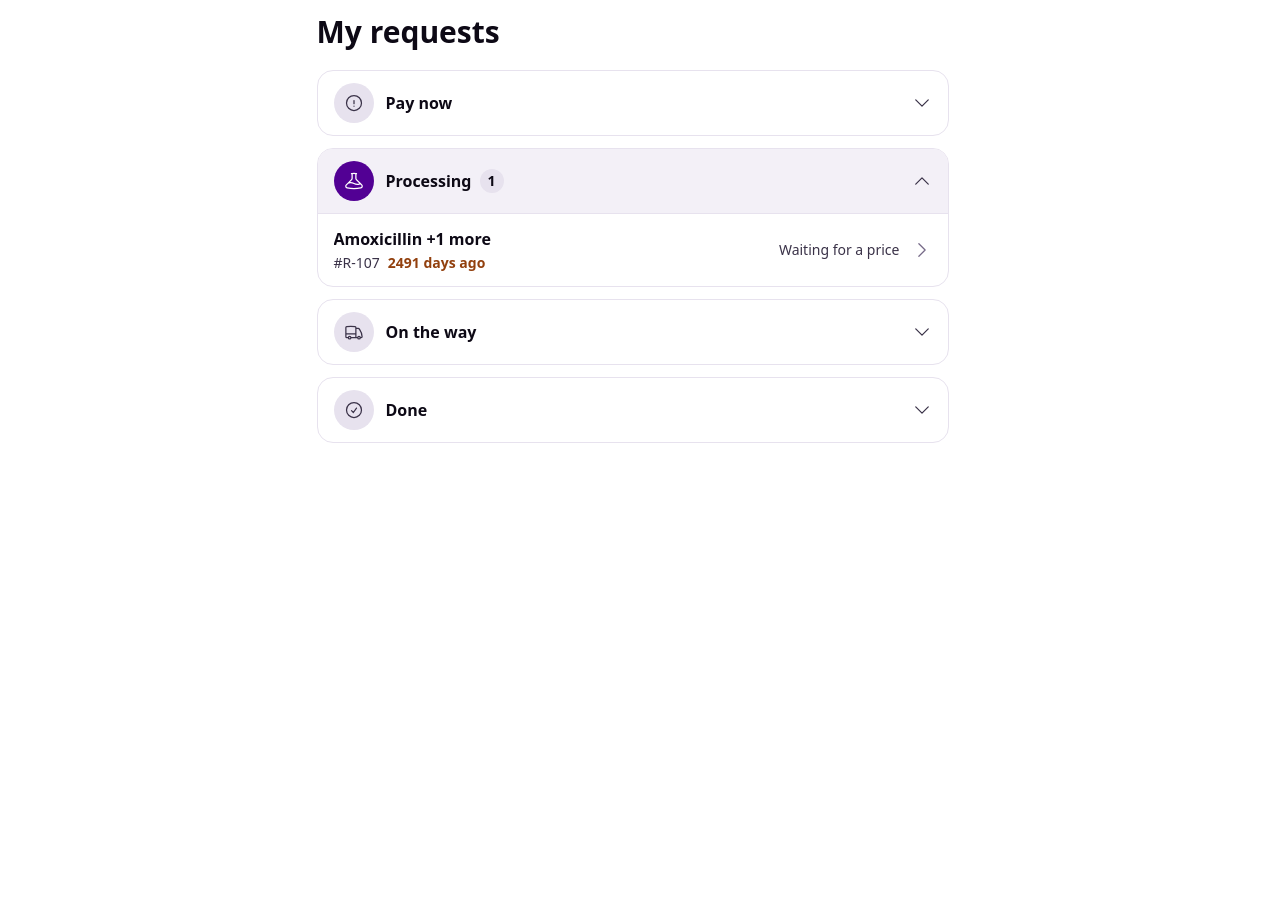
Test: Request detail: items › offers Edit items while the request can still change, and opens the editor
Click the button "Amoxicillin +1 more #R-107 2491 days ago Waiting for a price" at point(412, 239), box [322,218,944,282]
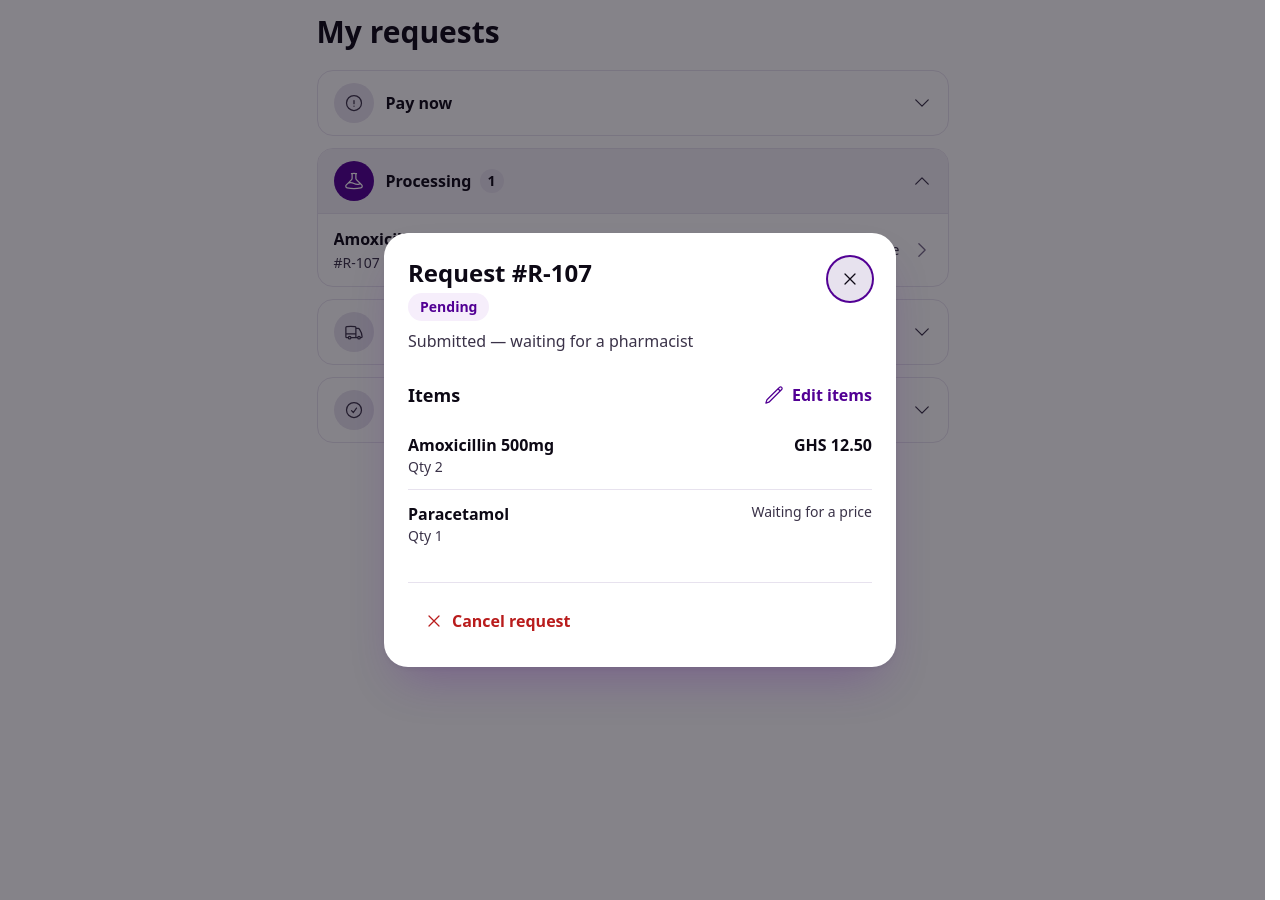
Expected: the button "Edit items" is shown
Click the button "Edit items" at point(812, 395), box [752,373,872,417]
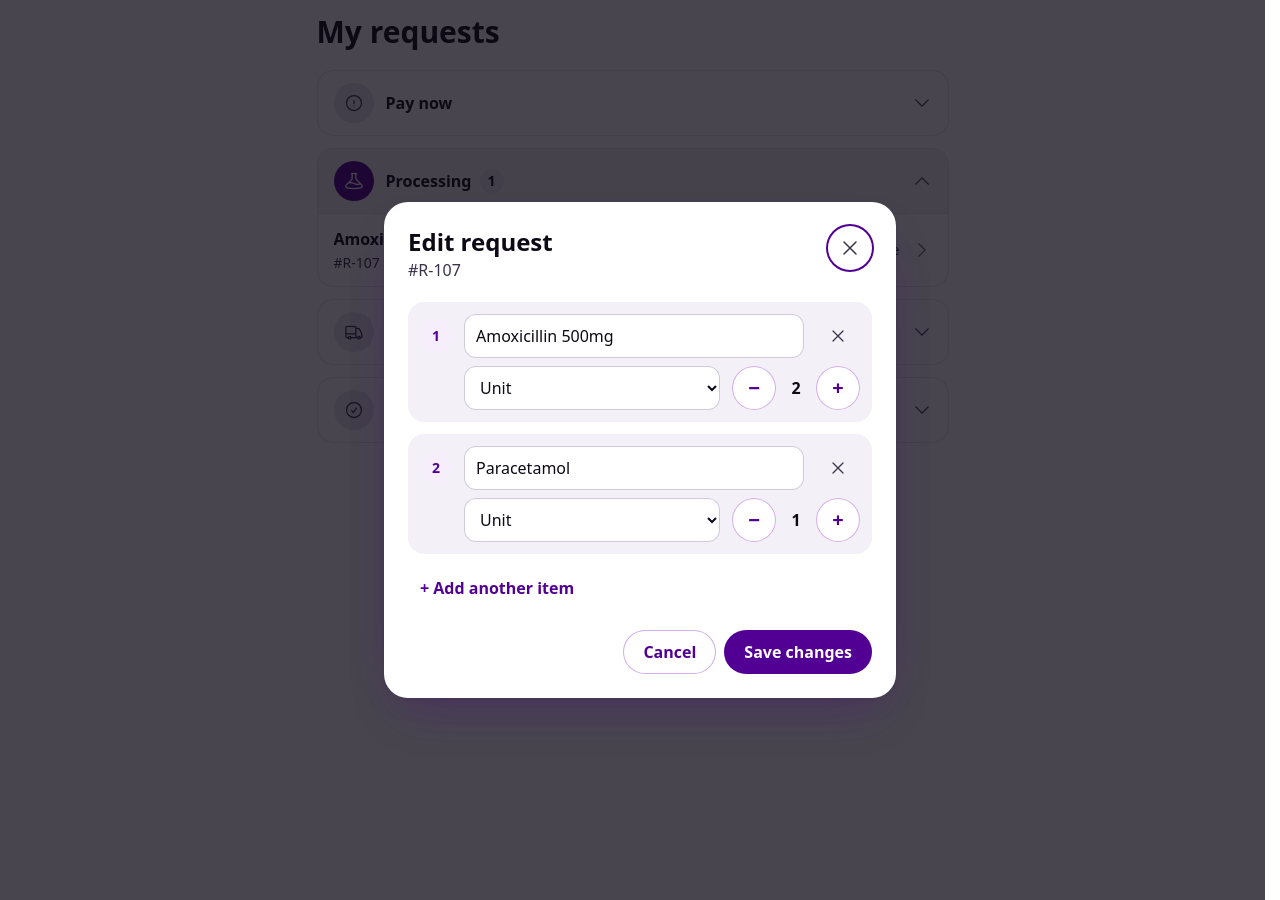
Expected: the text "Edit request" is shown, [408,226,553,258]
